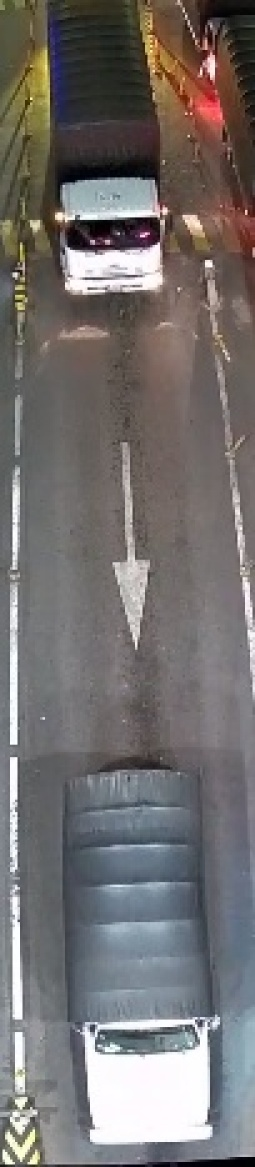truck: (59, 767, 227, 1152), (39, 6, 173, 288)
